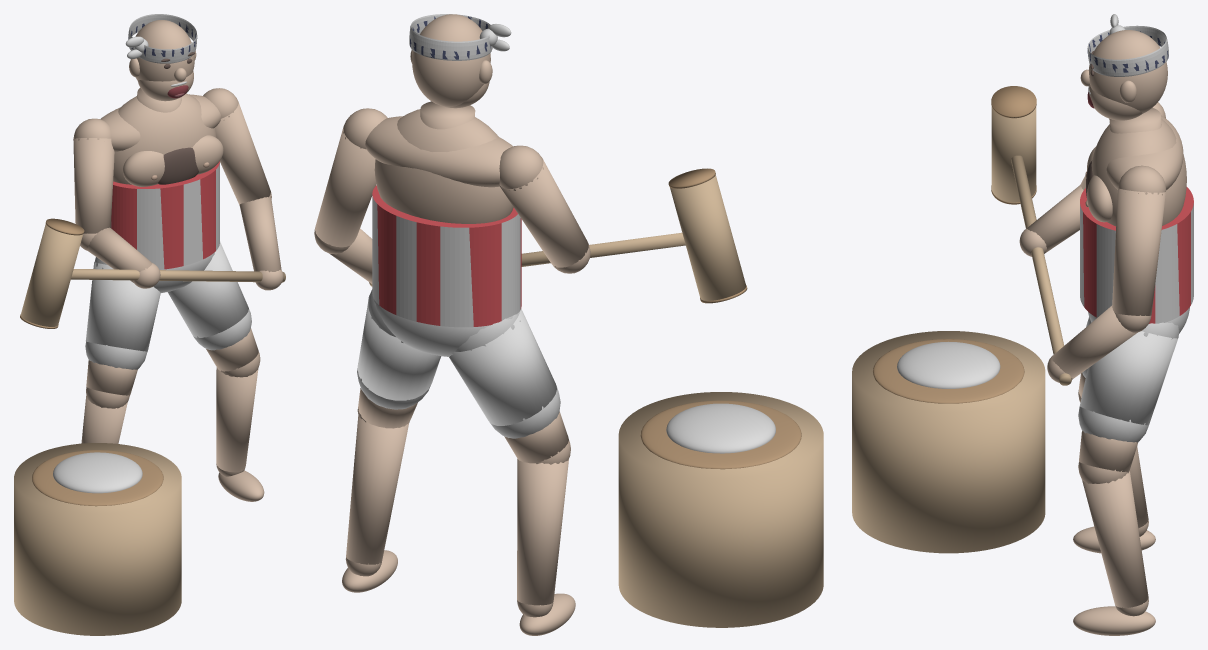
File: mochitsuki_man.glb
The picture shows the model from 3 angles, left to right: view 1: azimuth 30°, elevation 25°; view 2: azimuth 150°, elevation 25°; view 3: azimuth 270°, elevation 25°; orthographic projection. The views are drawn at different scales.
Parts seen in each view (by area): view 1: usu, haramaki, thigh_short_R, thigh_short_L, upper_arm_R, chest, kine_head, upper_arm_L, shin_L, usu_inner, mochi, forearm_L (+17 smaller); view 2: usu, haramaki, thigh_short_R, chest, shin_R, shin_L, upper_arm_R, upper_arm_L, kine_head, thigh_short_L, shoulders, usu_inner (+12 smaller); view 3: usu, thigh_short_L, haramaki, upper_arm_L, shin_L, usu_inner, mochi, chest, head, kine_head, forearm_L, kine_shaft (+11 smaller).
Boxes of the visible parts, box(x1,y1,x2,y2) form: usu: box(14, 443, 181, 635); haramaki: box(111, 161, 219, 269); thigh_short_R: box(85, 257, 160, 369); thigh_short_L: box(167, 241, 251, 350); upper_arm_R: box(73, 118, 114, 250); chest: box(113, 93, 216, 184); kine_head: box(20, 224, 82, 326); upper_arm_L: box(203, 88, 271, 204); shin_L: box(216, 367, 258, 476); usu_inner: box(32, 450, 163, 506); mochi: box(53, 452, 142, 493); forearm_L: box(239, 197, 281, 289); usu: box(618, 392, 823, 627); haramaki: box(372, 185, 521, 327); thigh_short_R: box(449, 308, 560, 438); chest: box(374, 109, 513, 223); shin_R: box(517, 459, 568, 617); shin_L: box(345, 416, 408, 576); upper_arm_R: box(499, 145, 590, 273); upper_arm_L: box(314, 108, 387, 254); kine_head: box(670, 175, 746, 300); thigh_short_L: box(357, 289, 441, 409); shoulders: box(365, 116, 512, 187); usu_inner: box(640, 400, 801, 469); usu: box(852, 331, 1045, 553); thigh_short_L: box(1078, 322, 1179, 442); haramaki: box(1080, 187, 1193, 323); upper_arm_L: box(1112, 165, 1166, 332); shin_L: box(1082, 471, 1148, 616); usu_inner: box(873, 339, 1024, 403); mochi: box(897, 341, 1000, 388); chest: box(1091, 118, 1186, 226); head: box(1088, 30, 1167, 113); kine_head: box(991, 106, 1036, 202); forearm_L: box(1050, 305, 1136, 378); kine_shaft: box(1011, 155, 1071, 385).
Bounding box in the file's own units: 1.25 × 1.79 × 0.99.
